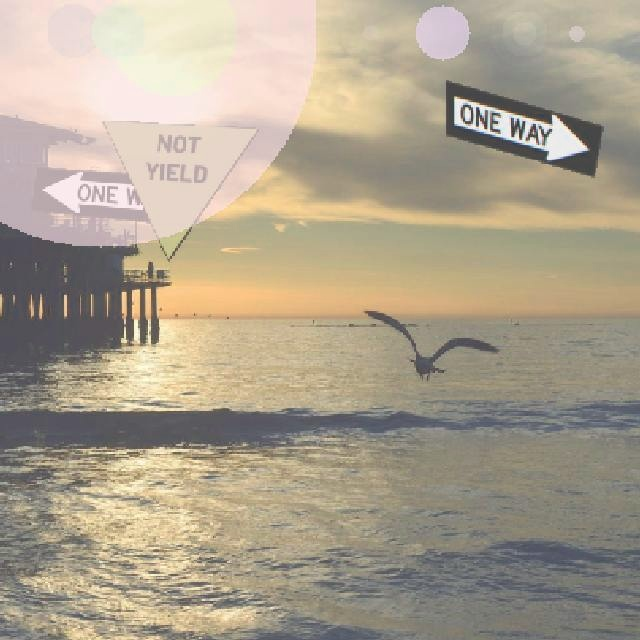NOT_YIELD: (100, 118, 259, 260)
ONE_WAY_ left: (29, 165, 188, 225)
ONE_WAY_ right: (443, 78, 602, 176)
